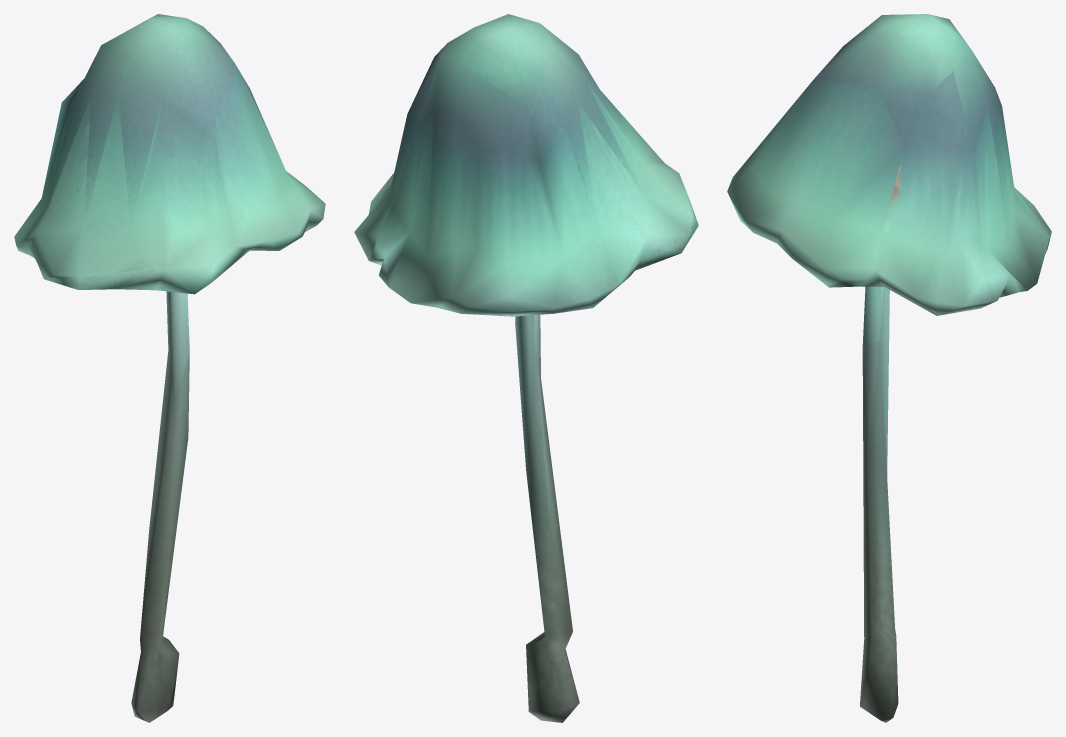
Rendered from fungus-teal-tall-c.gltf.
The picture shows the model from 3 angles, left to right: view 1: azimuth 30°, elevation 25°; view 2: azimuth 150°, elevation 25°; view 3: azimuth 270°, elevation 25°; orthographic projection. The views are drawn at different scales.
Visible parts, largest first — view 1: fungus-teal-tall-c; view 2: fungus-teal-tall-c; view 3: fungus-teal-tall-c.
Part boxes in pixels (x1,y1,x2,y2): fungus-teal-tall-c: (14, 14, 325, 722); fungus-teal-tall-c: (354, 14, 698, 722); fungus-teal-tall-c: (727, 14, 1051, 722).
Size of the model in its own units: 0.4357 by 1.03 by 0.423.
1 material, 1 textured.
